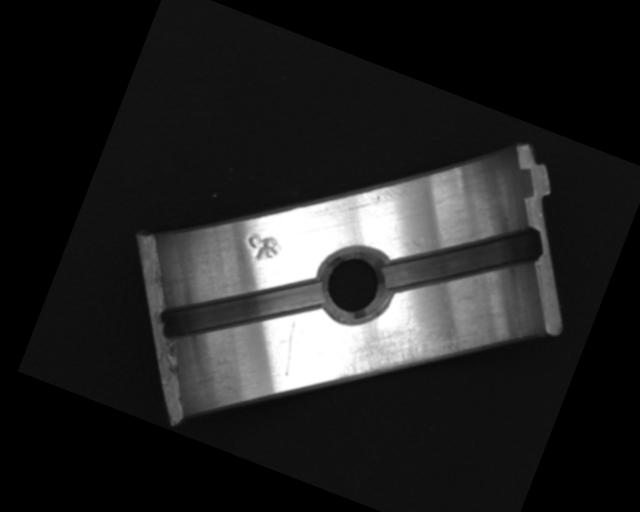bruise: (238, 227, 286, 272)
gap: (375, 183, 549, 336), (154, 235, 329, 384)
hole: (305, 231, 405, 333)
nick: (271, 318, 308, 377)
scratch: (331, 289, 472, 420)
